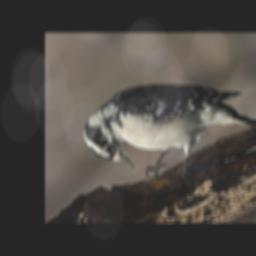Woodpecker: (85, 83, 256, 179)
